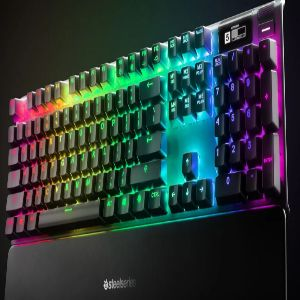keyboard: (4, 1, 285, 252)
